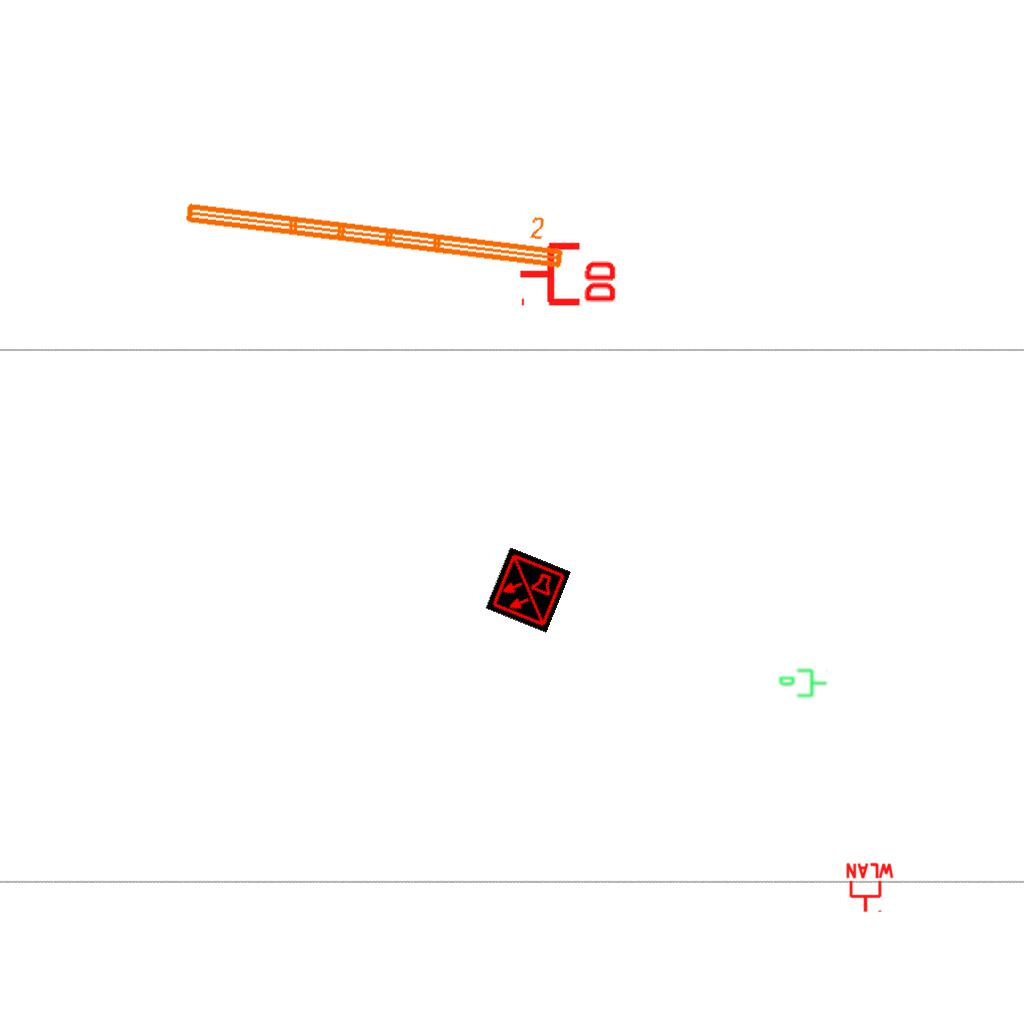Ambulanz_Pendelleuchte_LED: (180, 171, 571, 275)
Datenanschluss_einfach: (778, 667, 828, 701)
Datenanschluss_zweifach: (517, 238, 620, 307)
OKW_Multisensormelder_(Kombination_optischer_Rauch-Kahlenmonoxid_Waerme-Melder): (485, 547, 571, 633)
WLAN: (844, 862, 896, 914)
